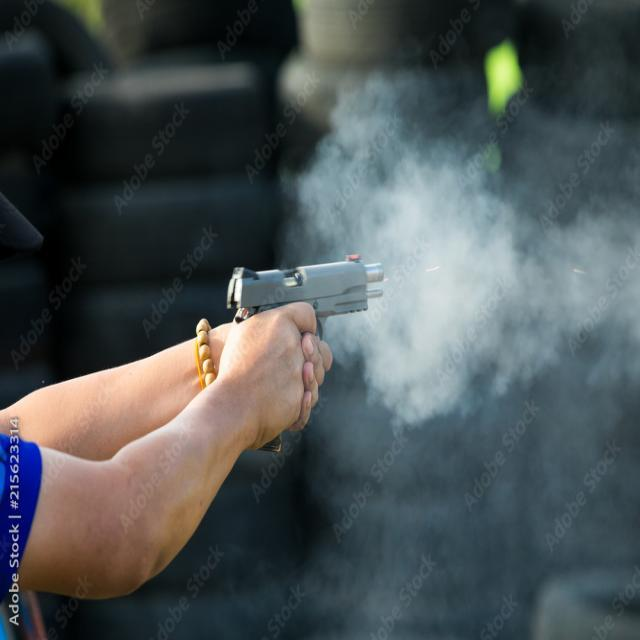handgun: (231, 257, 383, 456)
